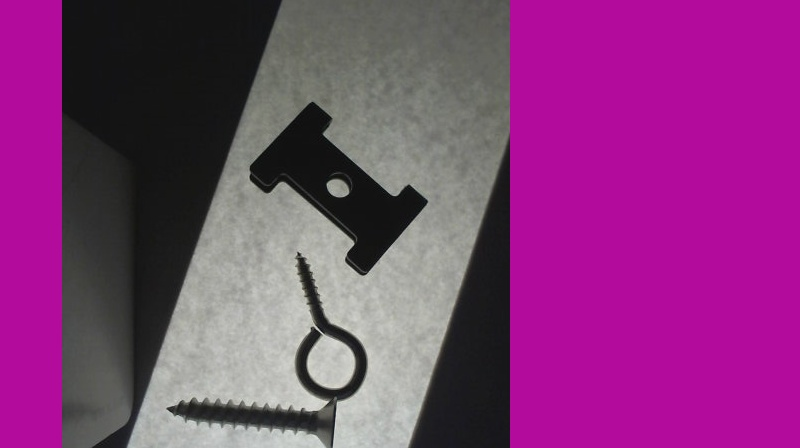O001: (292, 251, 369, 400)
O002: (248, 98, 431, 279)
S001: (164, 390, 341, 447)
